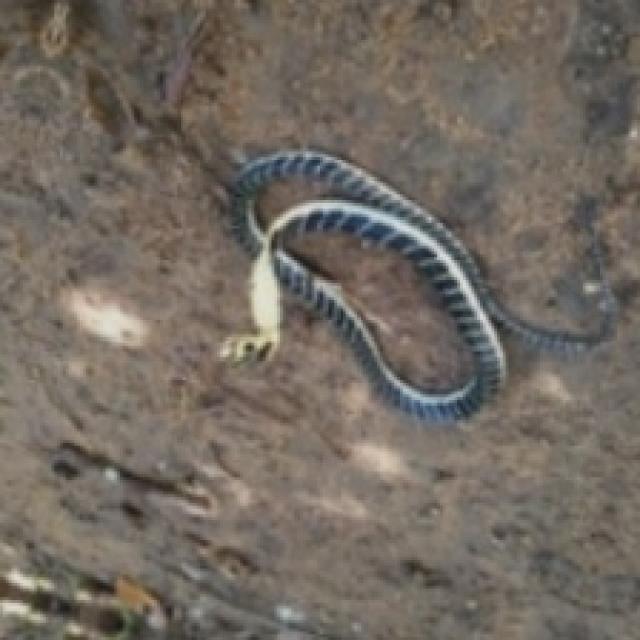king cobra: (223, 149, 611, 420), (283, 229, 474, 389)
